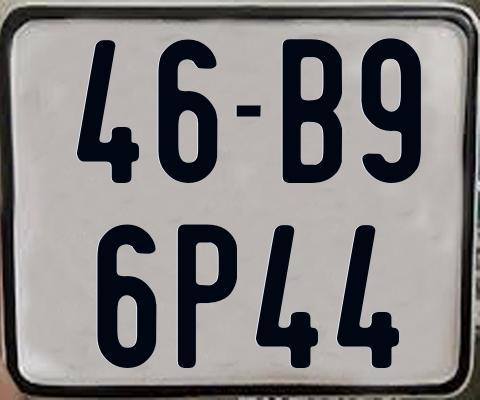4: (74, 39, 142, 187), (254, 223, 320, 371), (334, 225, 396, 372)
6: (95, 222, 157, 368), (158, 37, 219, 184)
9: (361, 37, 424, 184)
B: (283, 39, 342, 183)
P: (177, 224, 237, 371)
